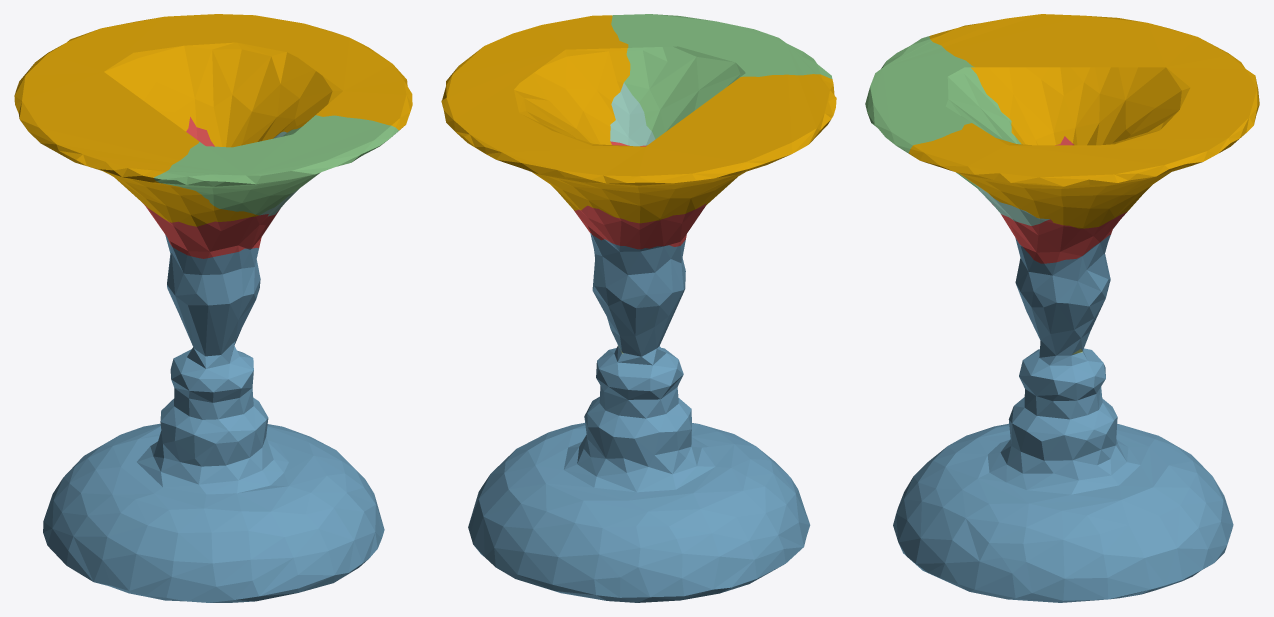
Rendered from fractured_30_6pcs.glb.
The picture shows the model from 3 angles, left to right: view 1: azimuth 30°, elevation 25°; view 2: azimuth 150°, elevation 25°; view 3: azimuth 270°, elevation 25°; orthographic projection.
Parts seen in each view (by area): view 1: piece_2.obj, piece_0.obj, piece_3.obj, piece_1.obj; view 2: piece_2.obj, piece_0.obj, piece_3.obj, piece_1.obj, piece_4.obj; view 3: piece_2.obj, piece_0.obj, piece_3.obj, piece_1.obj, piece_4.obj.
Part boxes in pixels (x1,y1,x2,y2): piece_2.obj: [43, 234, 384, 602]; piece_0.obj: [14, 14, 412, 226]; piece_3.obj: [154, 115, 398, 215]; piece_1.obj: [143, 117, 279, 258]; piece_2.obj: [468, 233, 810, 602]; piece_0.obj: [441, 15, 836, 223]; piece_3.obj: [611, 14, 832, 139]; piece_1.obj: [574, 141, 706, 249]; piece_4.obj: [610, 83, 655, 146]; piece_2.obj: [893, 227, 1233, 602]; piece_0.obj: [908, 14, 1259, 228]; piece_3.obj: [865, 36, 1021, 190]; piece_1.obj: [992, 136, 1127, 263]; piece_4.obj: [973, 183, 1049, 225].
Bounding box in the file's own units: 0.8186 × 1 × 0.815.
